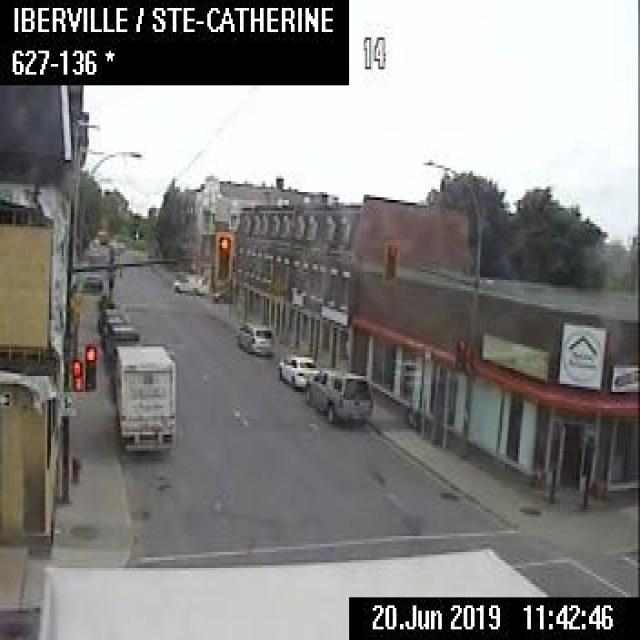vehicle: (36, 542, 542, 638), (112, 344, 176, 454), (304, 368, 370, 426), (276, 354, 318, 388), (104, 320, 139, 357), (235, 320, 272, 354), (171, 272, 207, 293), (100, 314, 122, 343), (96, 306, 117, 330)
